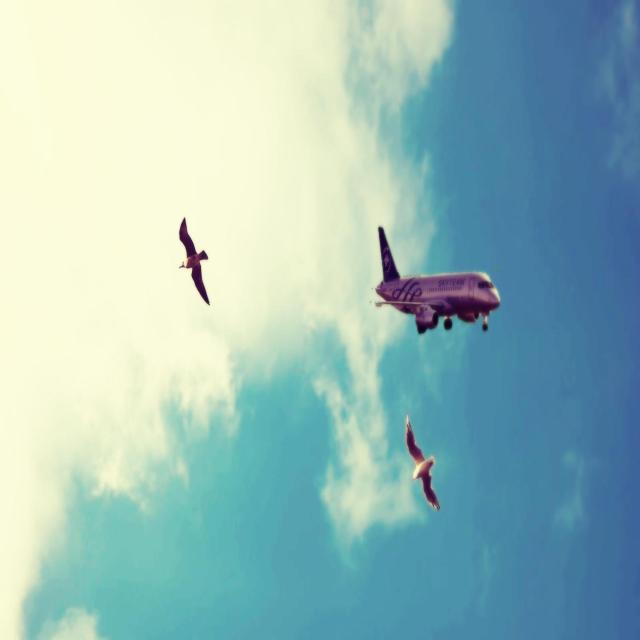airplane: (374, 224, 501, 334)
